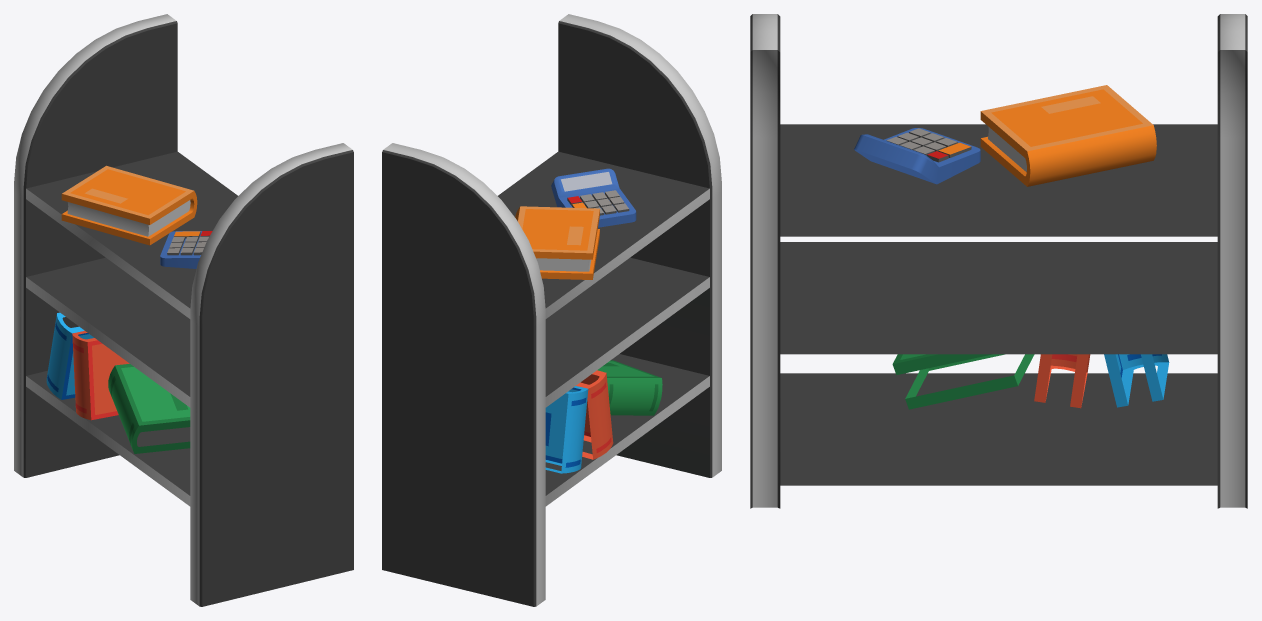
Rendered from Book Shelf LEVEL-2.fbx.
3 renders of one model, left to right at view 1: azimuth 30°, elevation 25°; view 2: azimuth 150°, elevation 25°; view 3: azimuth 270°, elevation 25°, orthographic. The views are drawn at different scales.
Parts seen in each view (by area): view 1: Book Shelf LEVEL-2; view 2: Book Shelf LEVEL-2; view 3: Book Shelf LEVEL-2.
Part boxes in pixels (x1,y1,x2,y2): Book Shelf LEVEL-2: [14, 14, 353, 606]; Book Shelf LEVEL-2: [382, 14, 721, 606]; Book Shelf LEVEL-2: [750, 14, 1247, 508].
Size of the model in its own units: 4.78 by 12.16 by 9.84.
